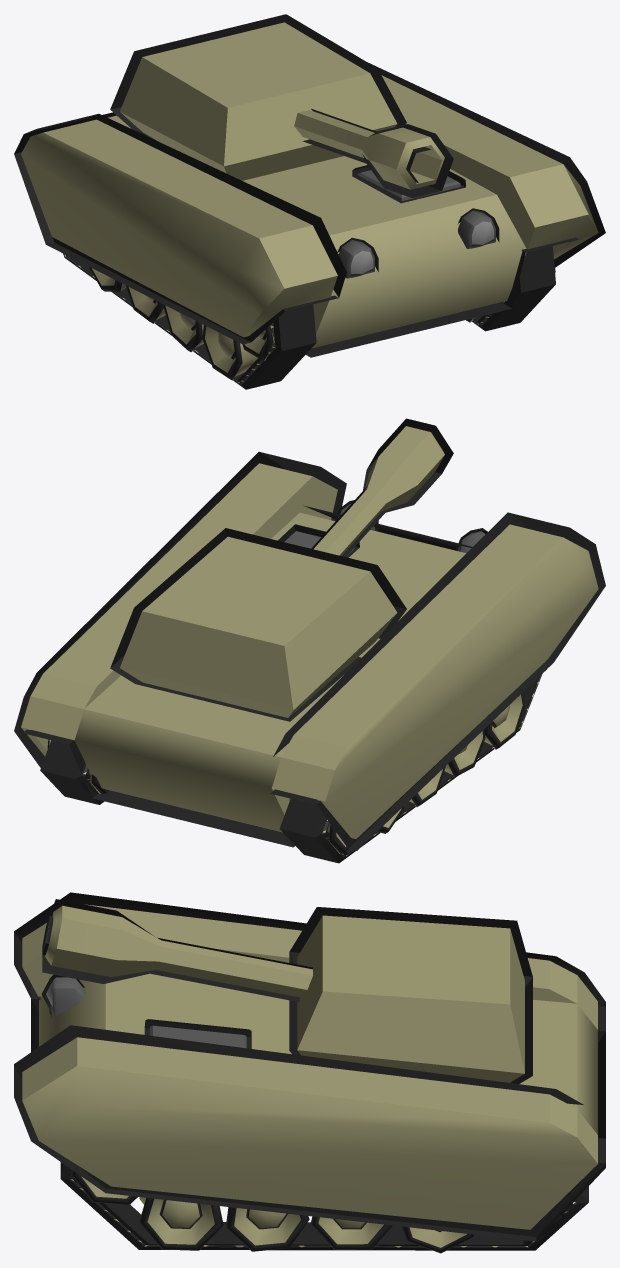
File: tinytankoutline.fbx
3 renders of one model, top to bottom at view 1: azimuth 30°, elevation 25°; view 2: azimuth 150°, elevation 25°; view 3: azimuth 270°, elevation 25°, orthographic. The views are drawn at different scales.
Parts seen in each view (by area): view 1: pCube1, pCube4, pCube11, pCylinder2, pCube10, pCube12, pCube8, pCylinder34, pCylinder23, pCube7, pCylinder22, pCube5 (+4 smaller); view 2: pCube1, pCube4, pCube11, pCylinder2, pCube12, pCube10, pCube8, pCylinder34, pCylinder23, pCylinder22; view 3: pCube1, pCube4, pCube11, pCylinder2, pCube8, pCube12, pCylinder5, pCylinder34, pCylinder6, pCylinder7, pCube6, pCylinder8 (+4 smaller).
Boxes of the visible parts, x1,y1,x2,y2 form: pCube1: (21,75,598,348); pCube4: (120,22,397,180); pCube11: (14,62,605,357); pCylinder2: (294,110,444,189); pCube10: (63,253,316,389); pCube12: (110,14,406,140); pCube8: (472,246,555,331); pCylinder34: (303,108,453,197); pCylinder23: (202,325,257,380); pCube7: (458,210,495,248); pCylinder22: (163,304,203,351); pCube5: (338,240,374,278); pCube1: (21,463,598,838); pCube4: (120,536,397,717); pCube11: (14,451,605,850); pCylinder2: (313,426,444,555); pCube12: (110,528,406,721); pCube10: (279,674,542,863); pCube8: (40,740,104,804); pCylinder34: (311,418,453,556); pCylinder23: (484,692,524,749); pCylinder22: (444,729,485,777); pCube1: (22,904,597,1229); pCube4: (297,915,524,1082); pCube11: (14,892,605,1241); pCylinder2: (45,905,312,997); pCube8: (60,1162,588,1250); pCube12: (289,907,532,1083); pCylinder5: (139,1197,223,1250); pCylinder34: (42,899,312,1002); pCylinder6: (225,1207,309,1251); pCylinder7: (310,1216,392,1249); pCube6: (149,1025,246,1048); pCylinder8: (401,1226,473,1253).
Bounding box in the file's own units: 8.28 × 5.61 × 11.07.
Materials: 5 (1 with a texture image).
